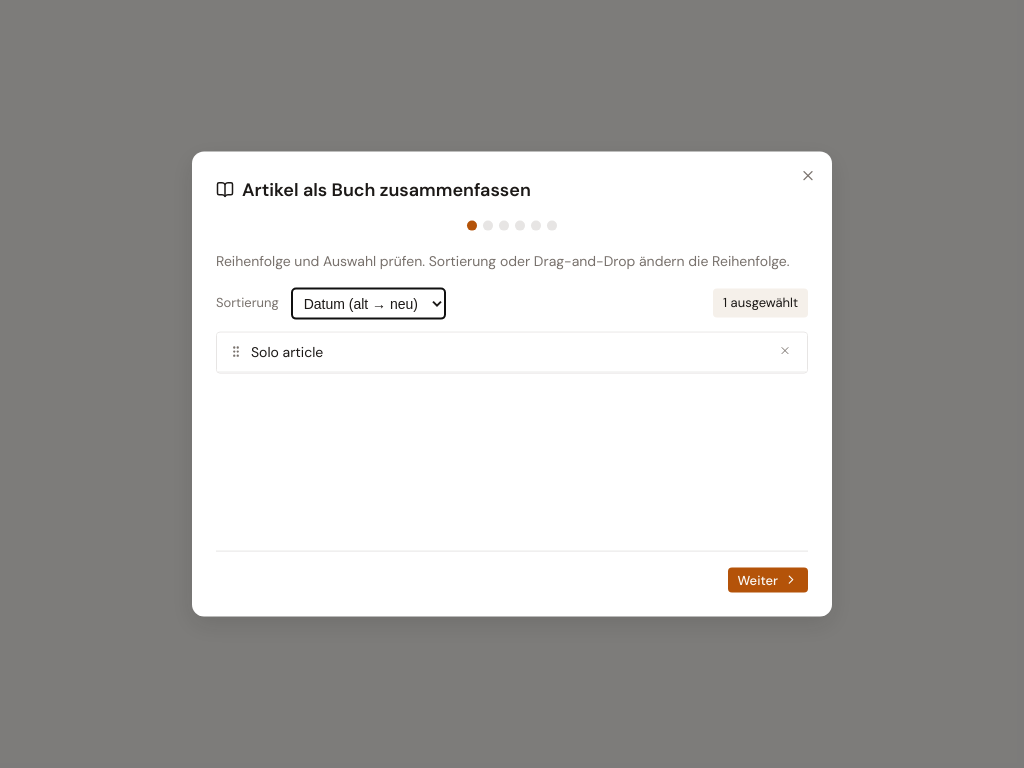
ConvertToBookWizard validation + pre-fill › single-article subtitle pre-fills as placeholder, cover info shows
Click the button with test id "convert-to-book-wizard-step-0-next" at (768, 580), box [728,567,808,592]
(page scrolled)
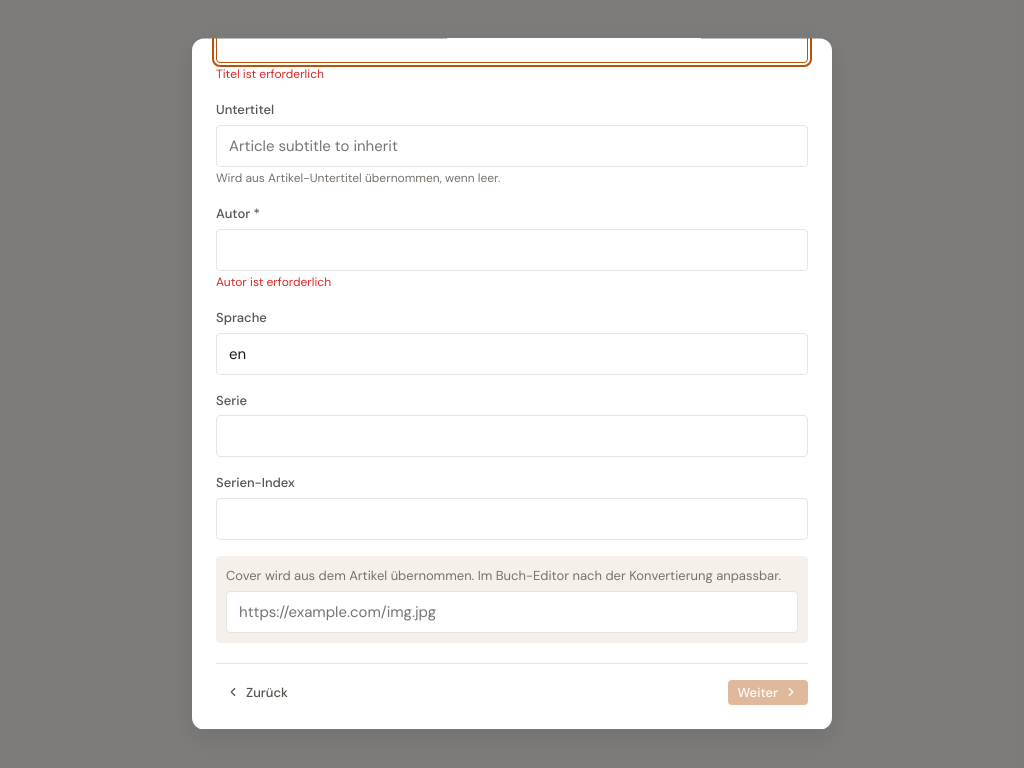
Check: the element with test id "convert-to-book-wizard-metadata-cover-info" is shown, box [216,556,808,643]
